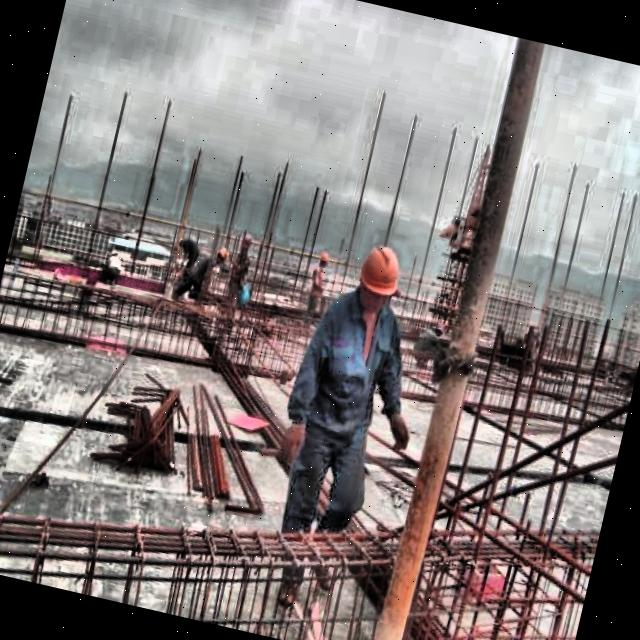helmet: (350, 240, 404, 318), (236, 229, 256, 256), (316, 246, 332, 270), (214, 243, 228, 265)
